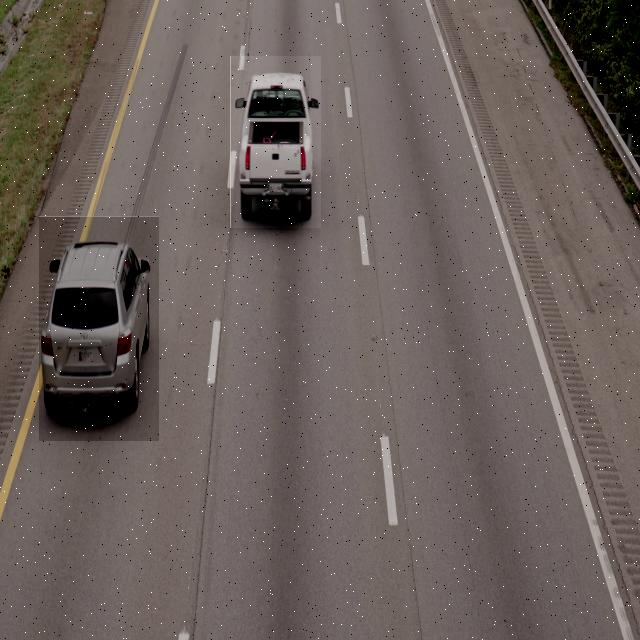Car: (39, 216, 159, 441), (230, 56, 321, 228)
